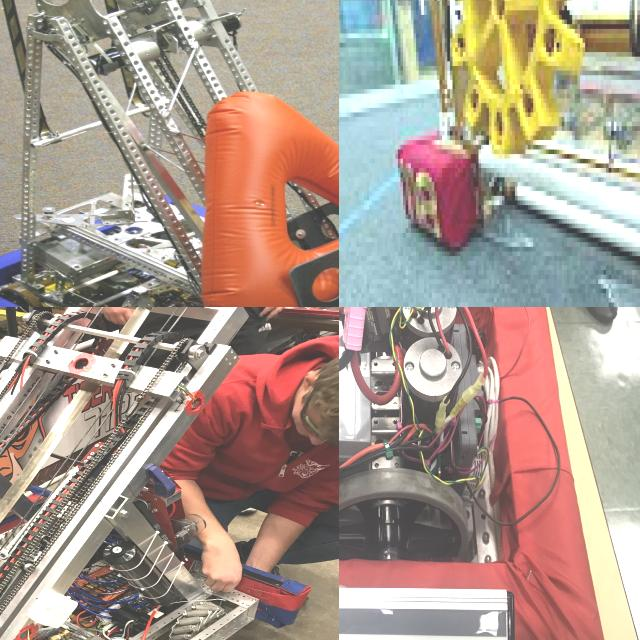FRC-Robots: (0, 307, 319, 640), (0, 0, 339, 307), (339, 0, 640, 307), (339, 307, 603, 640)
